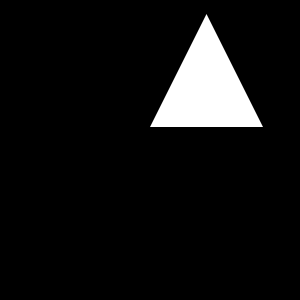triangle: (150, 14, 263, 127)
